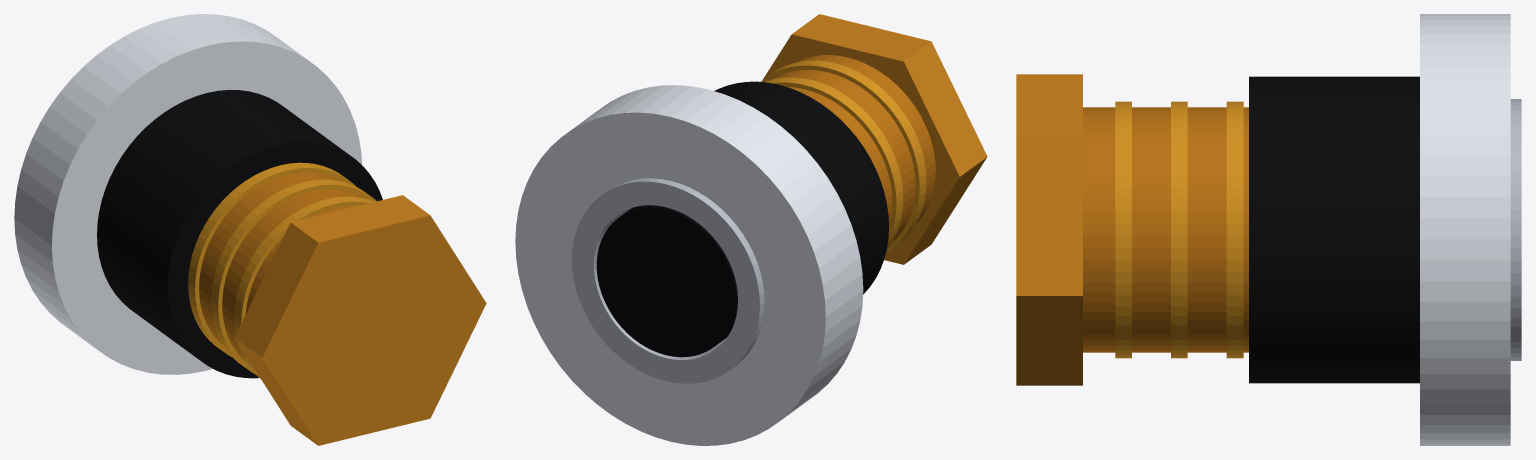
The model's file is JackConnector_White.fbx.
3 renders of one model, left to right at view 1: azimuth 30°, elevation 25°; view 2: azimuth 150°, elevation 25°; view 3: azimuth 270°, elevation 25°, orthographic. The views are drawn at different scales.
Visible parts, largest first — view 1: ColorCollar, HexNut, RearHousing, BrassBarrel, ThreadRidge1, ThreadRidge2, ThreadRidge3; view 2: ColorCollar, Socket, MetalRim, HexNut, RearHousing, BrassBarrel, ThreadRidge3, ThreadRidge2; view 3: RearHousing, ColorCollar, BrassBarrel, HexNut, ThreadRidge1, ThreadRidge2, ThreadRidge3, MetalRim.
Boxes of the visible parts, left/top/right/bottom form: ColorCollar: left=14, top=14, right=361, bottom=374; HexNut: left=234, top=195, right=486, bottom=445; RearHousing: left=97, top=90, right=382, bottom=378; BrassBarrel: left=199, top=172, right=365, bottom=361; ThreadRidge1: left=188, top=162, right=357, bottom=357; ThreadRidge2: left=211, top=179, right=376, bottom=373; ThreadRidge3: left=234, top=196, right=374, bottom=378; ColorCollar: left=515, top=85, right=863, bottom=445; Socket: left=596, top=205, right=737, bottom=357; MetalRim: left=571, top=178, right=764, bottom=383; HexNut: left=763, top=14, right=987, bottom=264; RearHousing: left=714, top=81, right=888, bottom=294; BrassBarrel: left=772, top=55, right=935, bottom=242; ThreadRidge3: left=761, top=60, right=926, bottom=252; ThreadRidge2: left=764, top=77, right=903, bottom=248; RearHousing: left=1249, top=76, right=1419, bottom=383; ColorCollar: left=1420, top=14, right=1510, bottom=445; BrassBarrel: left=1083, top=107, right=1248, bottom=352; HexNut: left=1016, top=74, right=1082, bottom=385; ThreadRidge1: left=1226, top=101, right=1243, bottom=358; ThreadRidge2: left=1171, top=101, right=1187, bottom=358; ThreadRidge3: left=1115, top=101, right=1131, bottom=358; MetalRim: left=1510, top=99, right=1521, bottom=360.
Bounding box in the file's own units: 0.031 × 0.031 × 0.0363.
